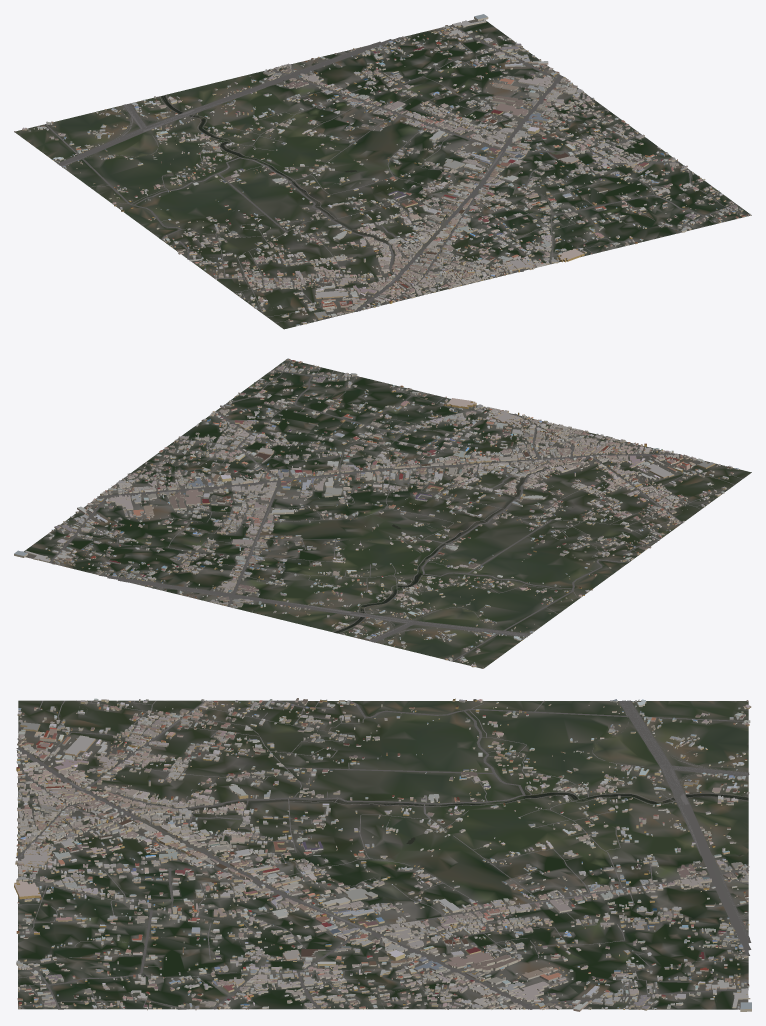
3 views of the same model, one above another, from view 1: azimuth 30°, elevation 25°; view 2: azimuth 150°, elevation 25°; view 3: azimuth 270°, elevation 25° (orthographic). The views are drawn at different scales.
Visible parts, largest first — view 1: ground, buildings, roads, water; view 2: ground, buildings, roads, water; view 3: ground, buildings, roads, water.
Part boxes in pixels (x1=…): ground: x1=14, y1=19, x2=751, y2=329; buildings: x1=14, y1=14, x2=750, y2=326; roads: x1=45, y1=25, x2=747, y2=322; water: x1=162, y1=76, x2=394, y2=253; ground: x1=24, y1=360, x2=751, y2=668; buildings: x1=14, y1=358, x2=738, y2=668; roads: x1=49, y1=360, x2=742, y2=661; water: x1=254, y1=469, x2=572, y2=632; ground: x1=18, y1=700, x2=748, y2=1009; buildings: x1=14, y1=698, x2=751, y2=1011; roads: x1=16, y1=700, x2=751, y2=1009; water: x1=188, y1=755, x2=747, y2=855.
Bounding box in the file's own units: 2834 × 31.66 × 2830.
